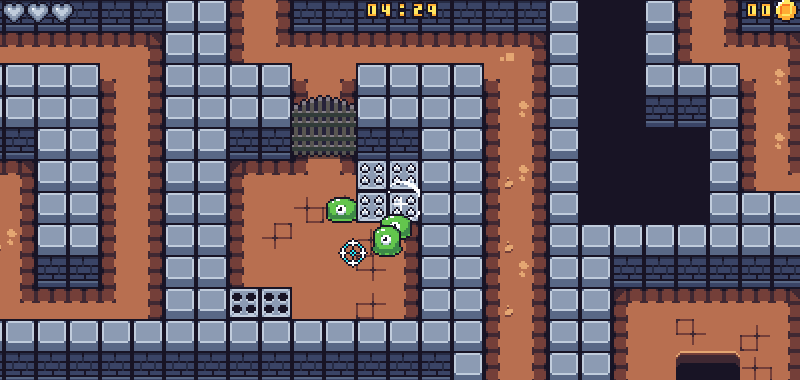enemy_slug_big: (370, 227, 400, 257), (325, 197, 356, 223), (382, 215, 410, 242)
trap_door: (290, 97, 357, 160)
trap_off: (226, 287, 292, 320)
trap_on: (358, 161, 419, 220)
